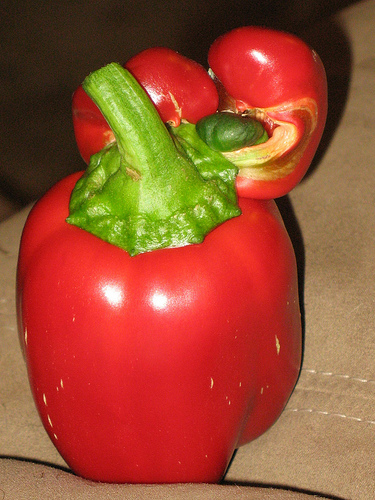capsicum: (13, 61, 303, 483)
